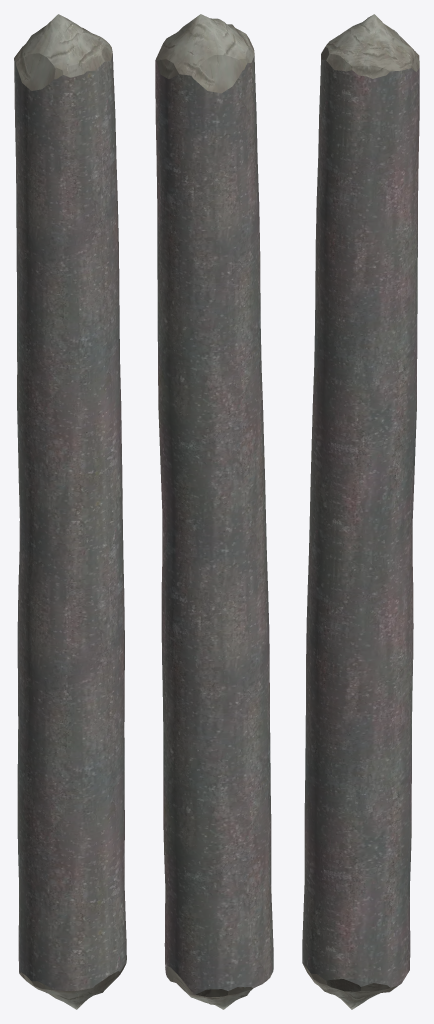
The picture shows the model from 3 angles, left to right: view 1: azimuth 90°, elevation 25°; view 2: azimuth 150°, elevation 25°; view 3: azimuth 330°, elevation 25°; orthographic projection.
Parts seen in each view (by area): view 1: SM_GF_Ash_Tree_03_half_top_LOD0; view 2: SM_GF_Ash_Tree_03_half_top_LOD0; view 3: SM_GF_Ash_Tree_03_half_top_LOD0.
Part boxes in pixels (x1,y1,x2,y2): SM_GF_Ash_Tree_03_half_top_LOD0: (14, 14, 126, 1009); SM_GF_Ash_Tree_03_half_top_LOD0: (155, 14, 273, 1009); SM_GF_Ash_Tree_03_half_top_LOD0: (302, 14, 419, 1009).
Size of the model in its own units: 0.4881 by 4.67 by 0.4827.
1 material, 1 textured.
